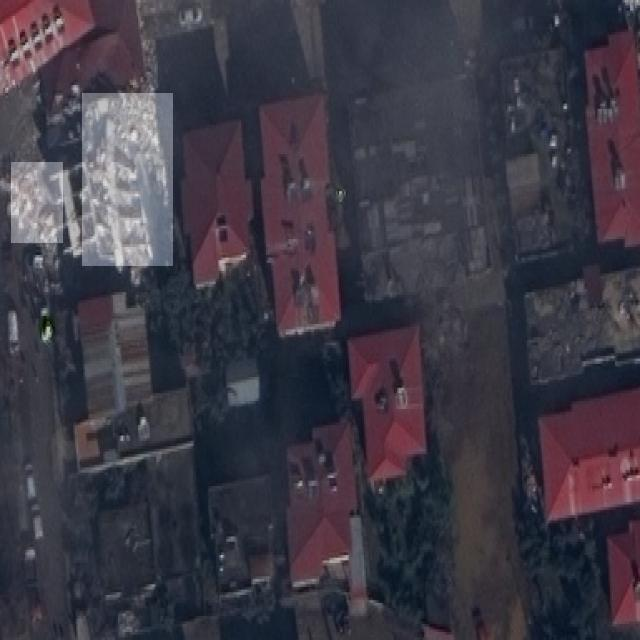Rubble: (82, 93, 173, 266), (12, 162, 64, 243)
